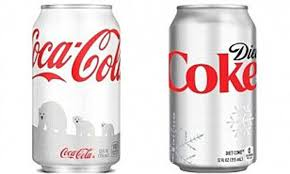can: (26, 2, 126, 174), (166, 2, 261, 174)
